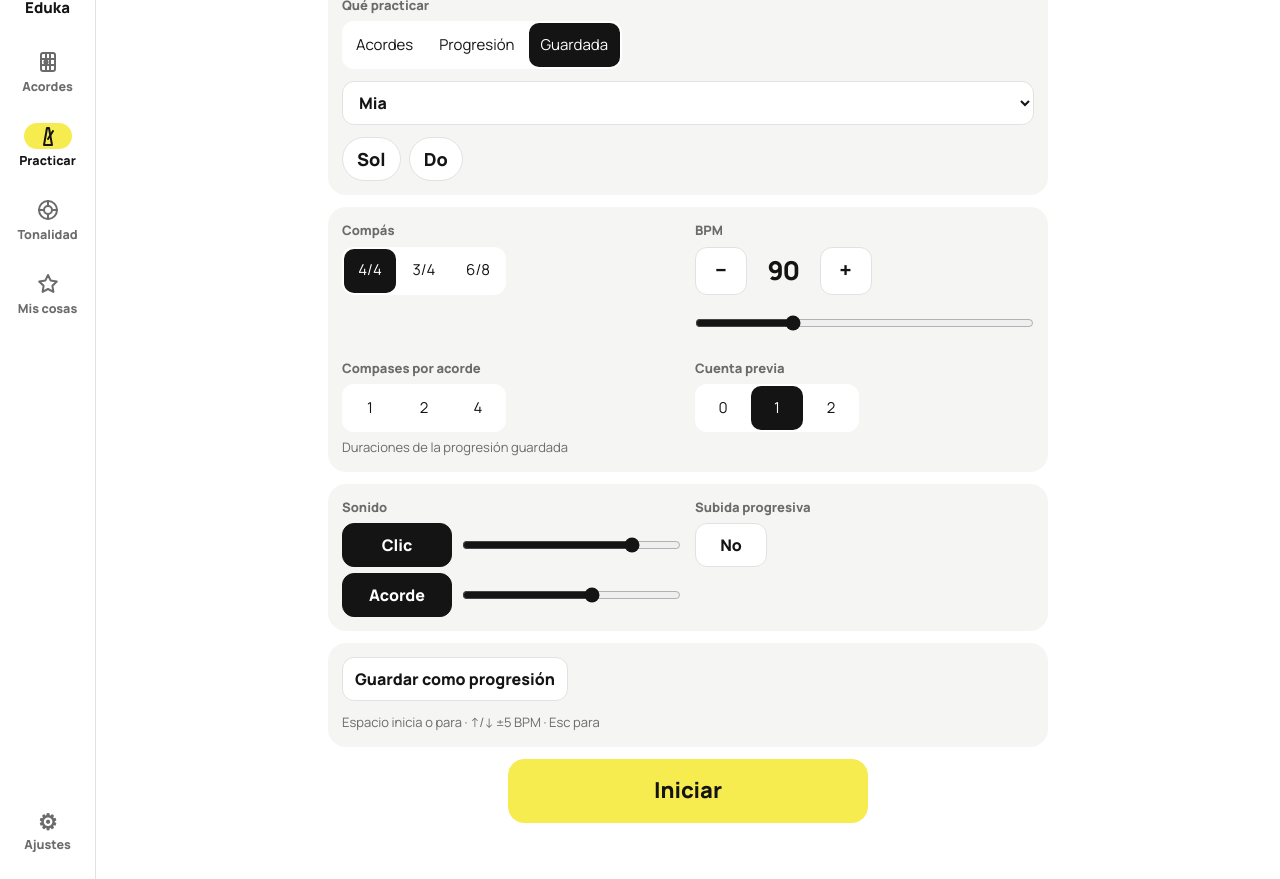
Test: pantalla Practicar › si la guardada se borra en marcha, vuelve a la configuración sin romper
Later steps or results of the test are not shown.
(page scrolled)
Click the button "Iniciar" at (688, 790), box [508, 758, 868, 822]
(page scrolled)
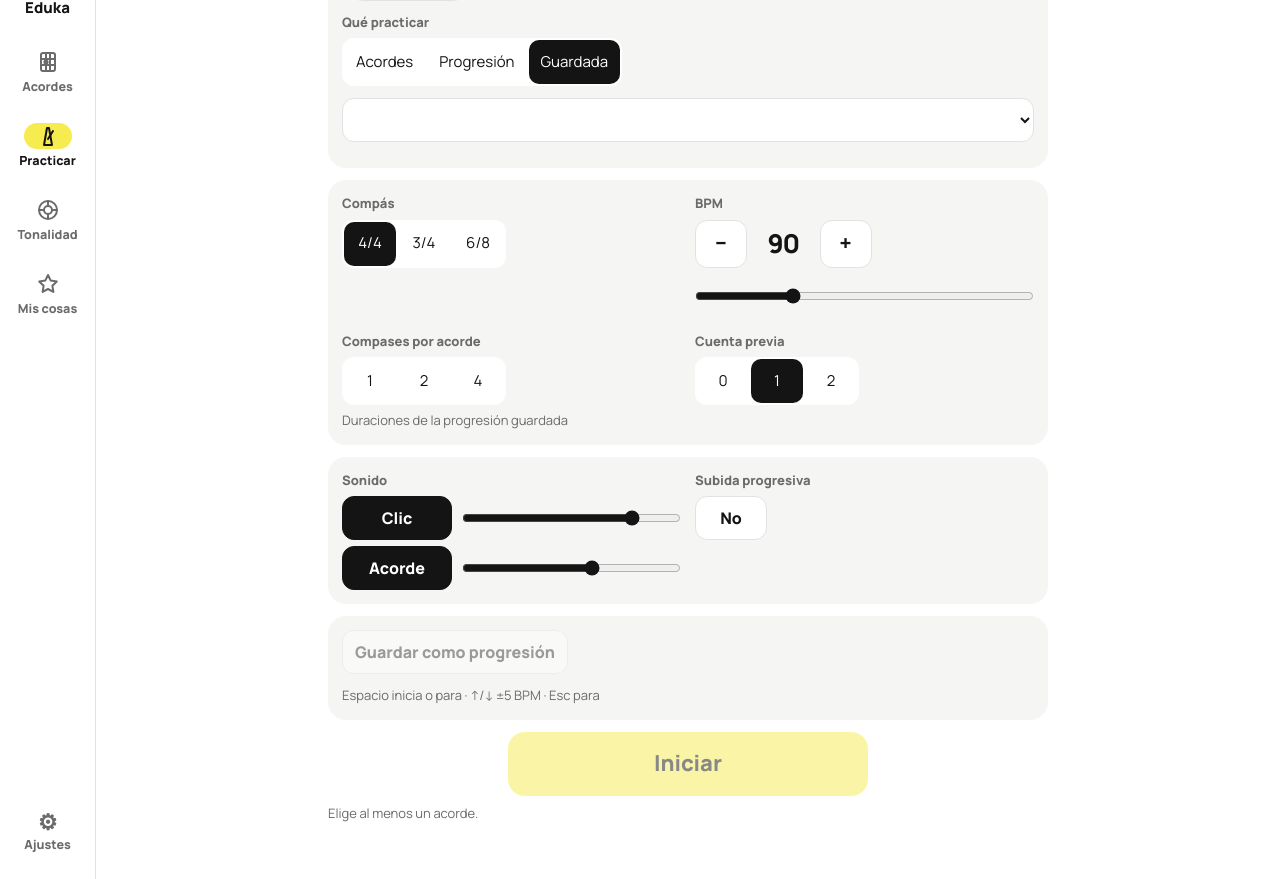
Expected: the button "Iniciar" is disabled, [508, 732, 868, 796]
